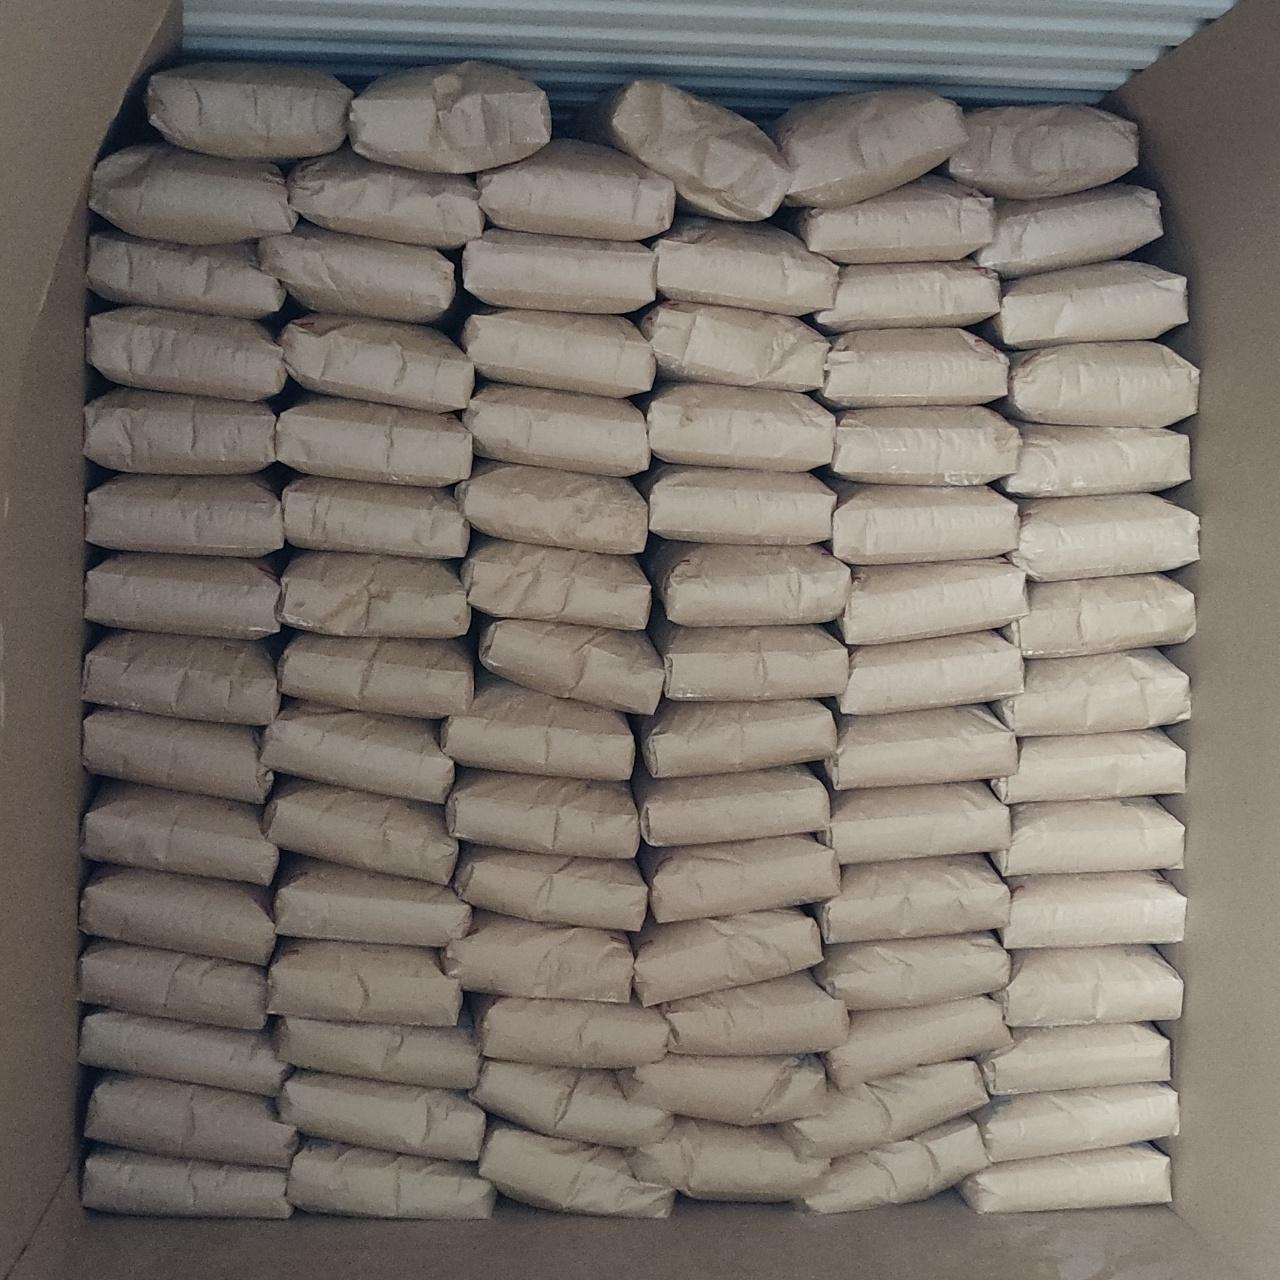sack: (583, 79, 790, 220), (767, 88, 967, 207), (348, 61, 550, 173), (89, 143, 297, 245), (264, 777, 457, 883), (81, 781, 278, 884), (86, 1073, 297, 1169), (477, 139, 675, 241), (440, 676, 634, 779), (258, 222, 454, 324), (147, 62, 352, 159), (287, 148, 484, 248), (784, 1061, 987, 1158), (263, 700, 452, 803), (80, 865, 274, 965), (278, 313, 474, 411), (275, 1070, 484, 1160), (481, 1121, 674, 1218), (651, 217, 839, 316), (86, 307, 287, 400), (792, 1118, 987, 1213), (82, 632, 279, 726), (80, 1009, 290, 1097), (455, 459, 647, 554), (942, 105, 1137, 199), (275, 394, 471, 486), (985, 260, 1187, 349), (632, 910, 822, 1005), (272, 856, 469, 947), (83, 708, 272, 803), (974, 182, 1162, 277), (639, 835, 840, 922), (442, 910, 633, 1002), (790, 176, 993, 263), (445, 768, 640, 858), (87, 231, 286, 319), (642, 540, 850, 625), (462, 383, 651, 476), (479, 619, 663, 714), (459, 309, 655, 397), (642, 383, 835, 472), (474, 1060, 670, 1146), (462, 539, 651, 629), (990, 651, 1189, 736), (641, 301, 829, 392), (86, 552, 280, 639), (816, 855, 1010, 941), (826, 996, 1010, 1088), (268, 939, 462, 1026), (277, 633, 472, 719), (1002, 341, 1197, 427), (80, 940, 266, 1029), (84, 387, 275, 474), (625, 1119, 829, 1200), (280, 551, 470, 638), (86, 474, 282, 557), (287, 1139, 496, 1218), (1010, 493, 1199, 580), (462, 229, 655, 313), (454, 845, 647, 930), (654, 972, 847, 1056), (649, 617, 847, 699), (824, 706, 1017, 789), (632, 700, 836, 778), (972, 1084, 1178, 1162), (838, 559, 1027, 644), (1003, 574, 1194, 658), (837, 631, 1023, 715), (632, 765, 829, 845), (639, 465, 836, 544), (813, 932, 1010, 1010), (829, 406, 1021, 485), (822, 782, 1010, 863), (282, 476, 467, 558), (273, 1017, 481, 1090), (821, 328, 1009, 408), (999, 945, 1182, 1027), (832, 482, 1017, 563), (990, 797, 1184, 874), (618, 1054, 826, 1125), (960, 1143, 1170, 1213), (82, 1148, 291, 1218), (1000, 872, 1186, 949), (472, 995, 669, 1067), (990, 731, 1184, 804), (1000, 423, 1189, 497), (980, 1024, 1169, 1095), (815, 263, 999, 332)
